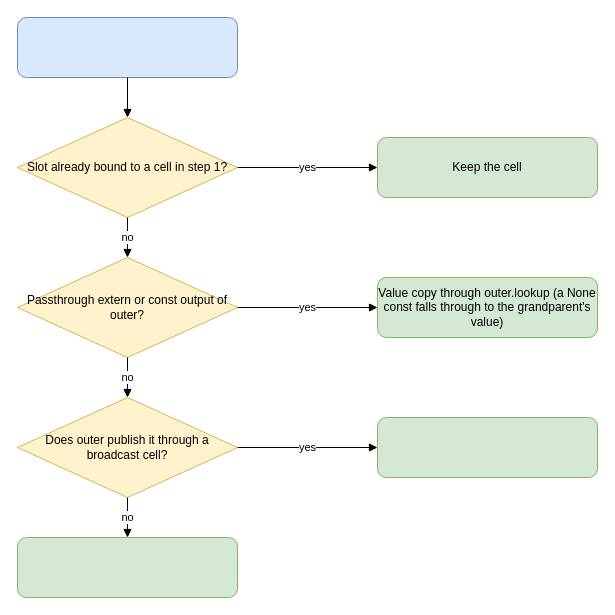
This 615x615 diagram has some shape labels left out. Here are the shapes that lost their labels. From the top down, the centre of each, then its label:
[127,47]: An output of outer whose name is an inner input slot
[487,447]: Attach the broadcast cell
[127,567]: Plain value copy of outer.lookup(name)
